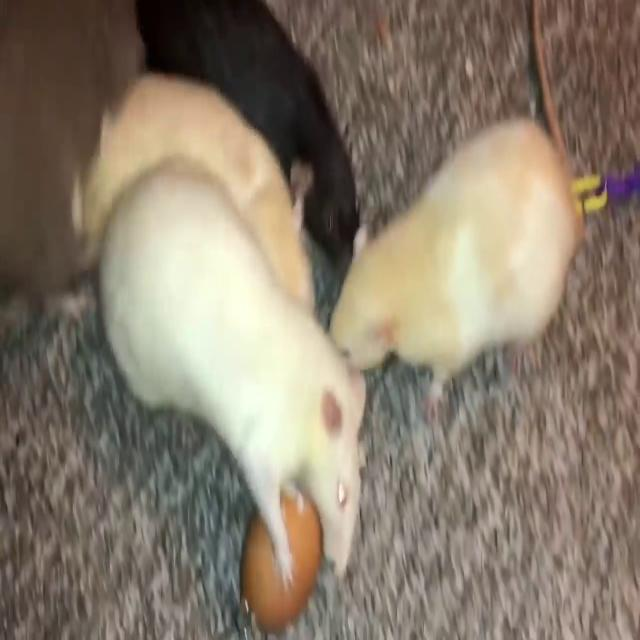rat: (108, 173, 359, 575), (338, 139, 578, 380), (234, 6, 368, 260)
